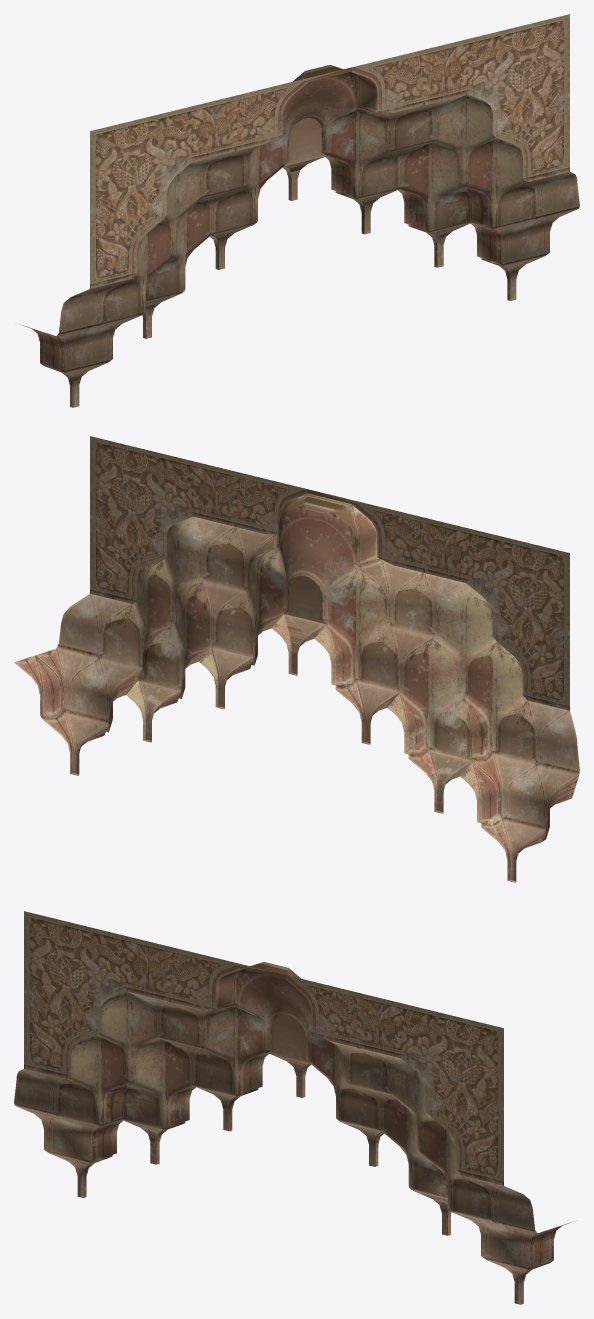
Rendered from muq_wall.glb.
3 renders of one model, top to bottom at view 1: azimuth 30°, elevation 25°; view 2: azimuth 150°, elevation 25°; view 3: azimuth 330°, elevation 25°, orthographic.
Parts seen in each view (by area): view 1: Object_2; view 2: Object_2; view 3: Object_2.
Boxes of the visible parts, x1,y1,x2,y2 form: Object_2: [19, 14, 579, 407]; Object_2: [14, 436, 579, 882]; Object_2: [14, 911, 574, 1304].
Bounding box in the file's own units: 1941 × 1020 × 223.
Materials: 1 (1 with a texture image).
